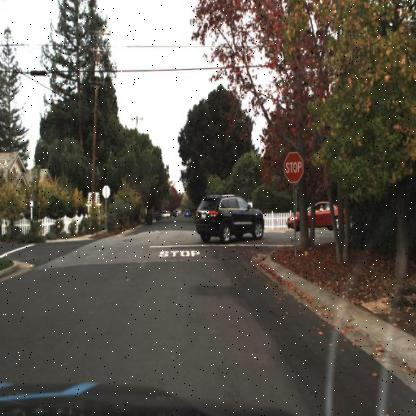car: (192, 192, 268, 244), (287, 196, 351, 237)
